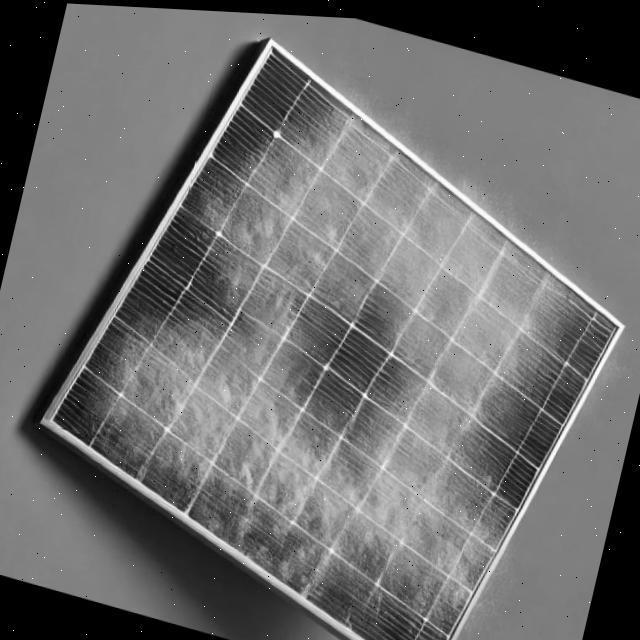Anomaly Solar Panel: (29, 41, 640, 640)
Surface Contaminant: (49, 62, 640, 640)
